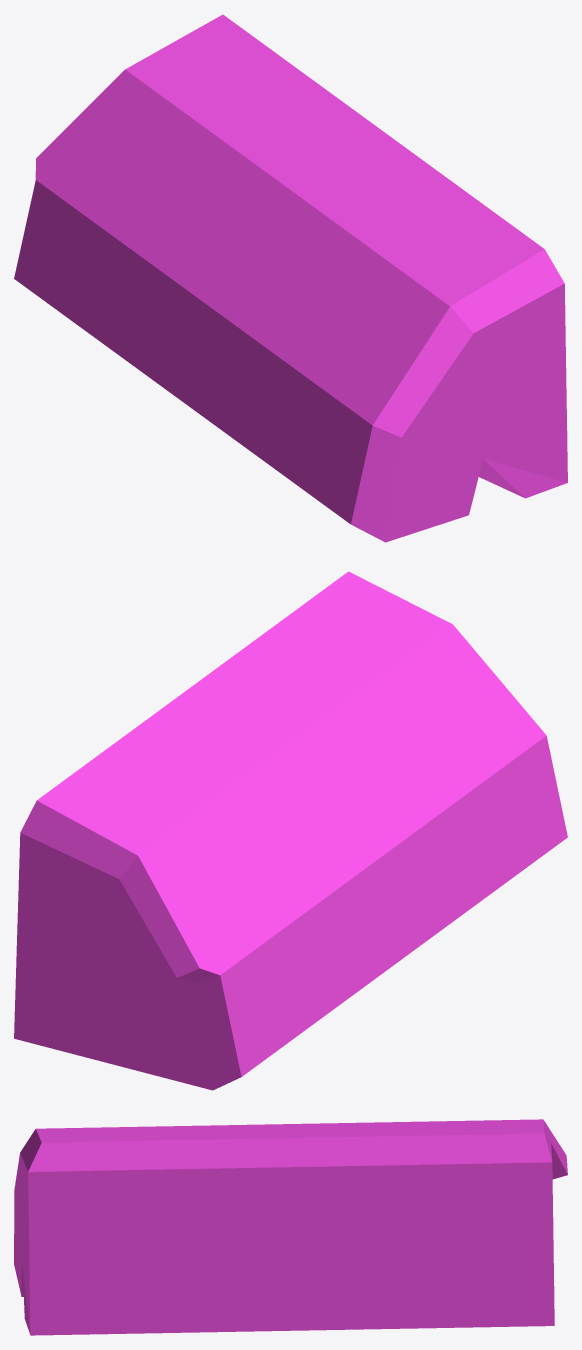
The model's file is SM_Wood_Chunk_A_Fantasy.fbx.
3 renders of one model, top to bottom at view 1: azimuth 30°, elevation 25°; view 2: azimuth 150°, elevation 25°; view 3: azimuth 270°, elevation 25°, orthographic. The views are drawn at different scales.
Parts seen in each view (by area): view 1: SM_Wood_Chunk_A_Fantasy; view 2: SM_Wood_Chunk_A_Fantasy; view 3: SM_Wood_Chunk_A_Fantasy.
Boxes of the visible parts, x1,y1,x2,y2 form: SM_Wood_Chunk_A_Fantasy: (14, 14, 567, 542); SM_Wood_Chunk_A_Fantasy: (14, 571, 567, 1090); SM_Wood_Chunk_A_Fantasy: (14, 1119, 567, 1335).
Size of the model in its own units: 0.189 by 0.1931 by 0.4931.
